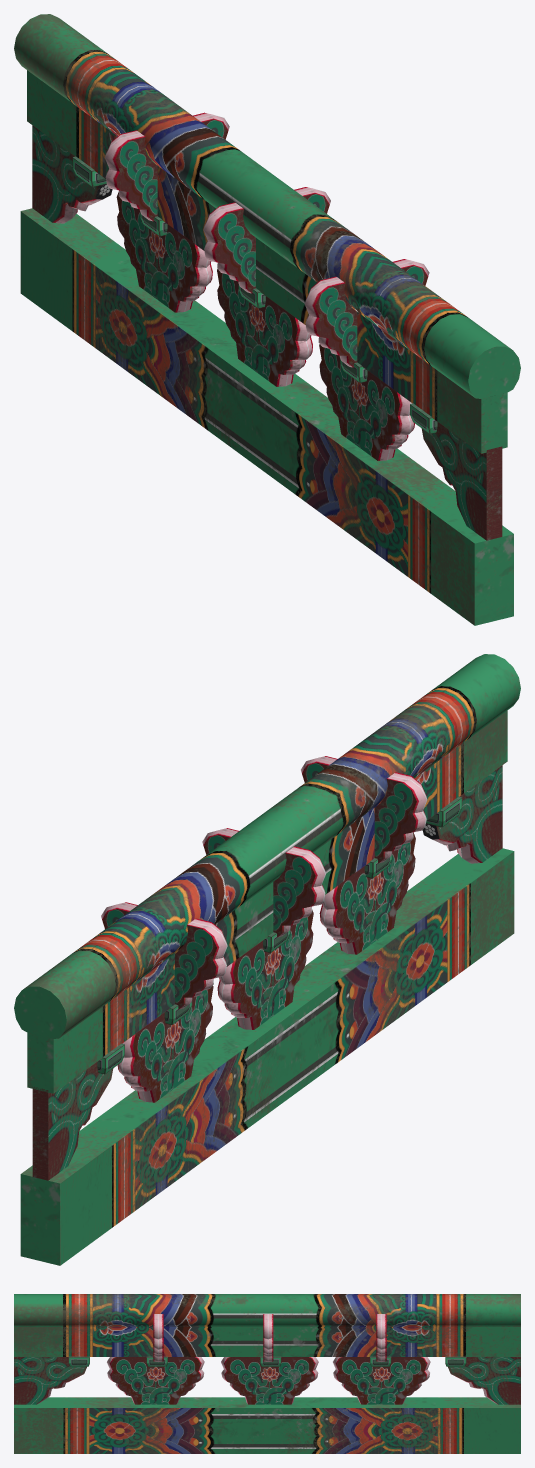
The model's file is SM_Purlin04a.fbx.
3 views of the same model, one above another, from view 1: azimuth 30°, elevation 25°; view 2: azimuth 150°, elevation 25°; view 3: azimuth 270°, elevation 25° (orthographic). The views are drawn at different scales.
Parts seen in each view (by area): view 1: SM_Purlin04a; view 2: SM_Purlin04a; view 3: SM_Purlin04a.
Boxes of the visible parts, bbox=[...] form: SM_Purlin04a: bbox=[14, 14, 520, 625]; SM_Purlin04a: bbox=[14, 654, 520, 1265]; SM_Purlin04a: bbox=[14, 1294, 520, 1453].
Bounding box in the file's own units: 48 × 300 × 99.93.
2 materials, 2 textured.
